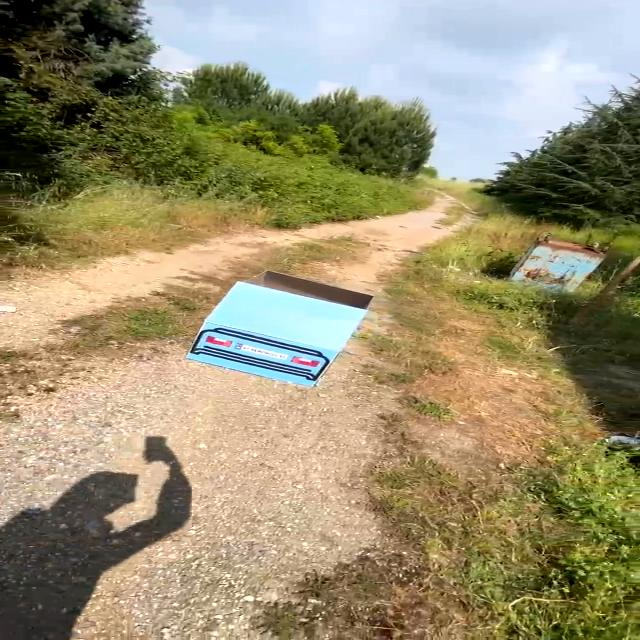blue_car: (181, 256, 384, 394)
